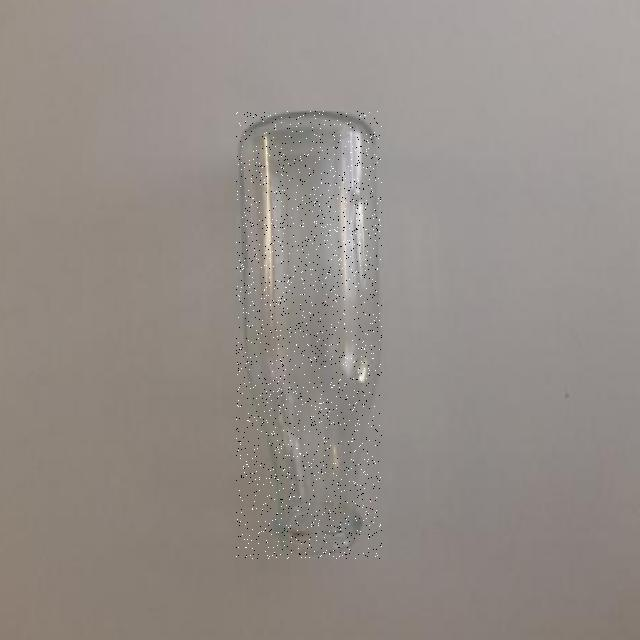glass: (236, 111, 382, 559)
